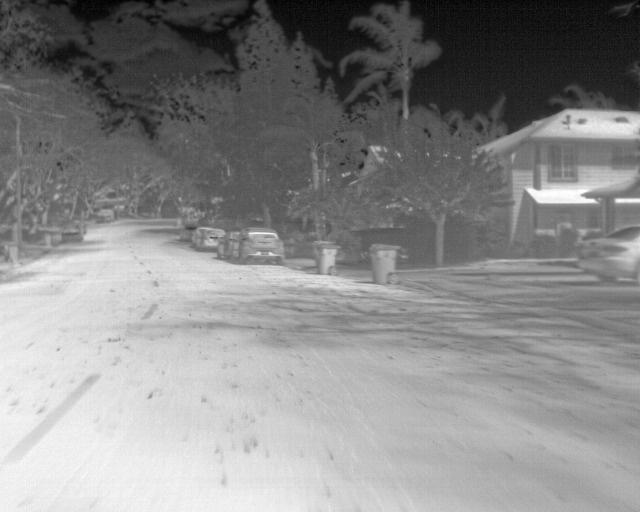car: (577, 222, 639, 284), (230, 227, 282, 264), (214, 229, 241, 258), (191, 225, 219, 249), (59, 221, 83, 242), (94, 206, 113, 223)
